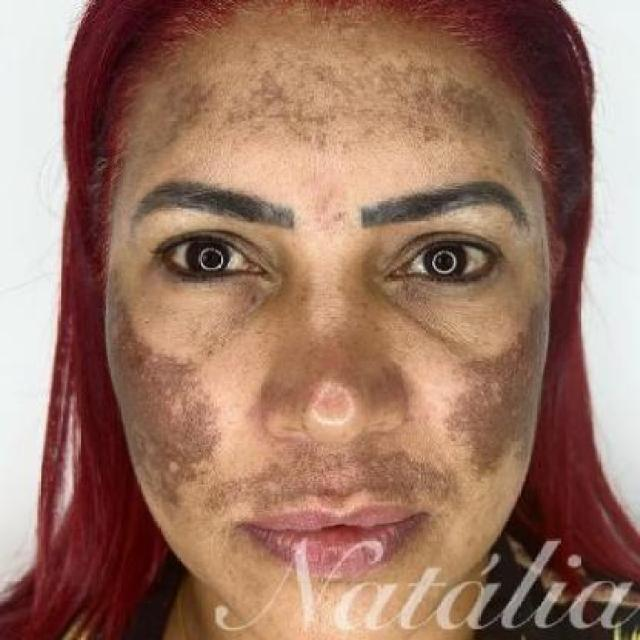melasma: (120, 26, 537, 214), (125, 279, 275, 533), (255, 259, 413, 424), (433, 279, 542, 511), (218, 449, 464, 538)
